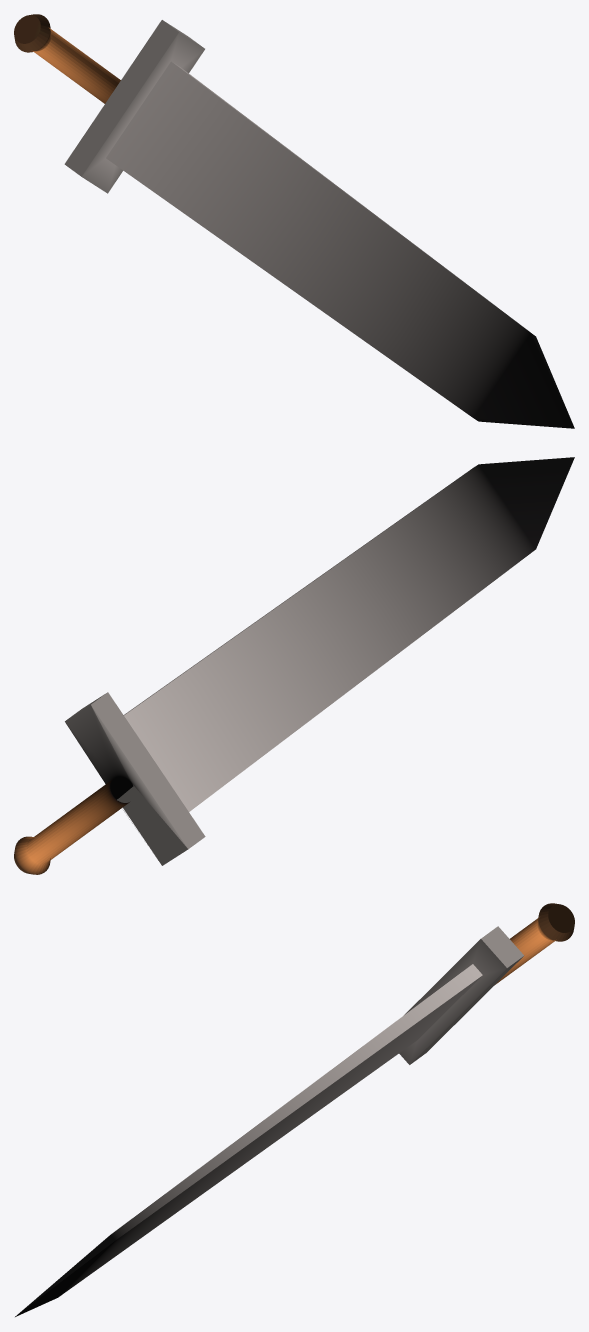
Rendered from basic_sword.glb.
3 views of the same model, one above another, from view 1: azimuth 30°, elevation 25°; view 2: azimuth 150°, elevation 25°; view 3: azimuth 330°, elevation 25° (orthographic).
Parts seen in each view (by area): view 1: sword; view 2: sword; view 3: sword.
Boxes of the visible parts, x1,y1,x2,y2 form: sword: (14, 14, 574, 428); sword: (14, 457, 574, 874); sword: (15, 903, 574, 1316).
Size of the model in its own units: 0.0873 by 0.0971 by 0.6688.
